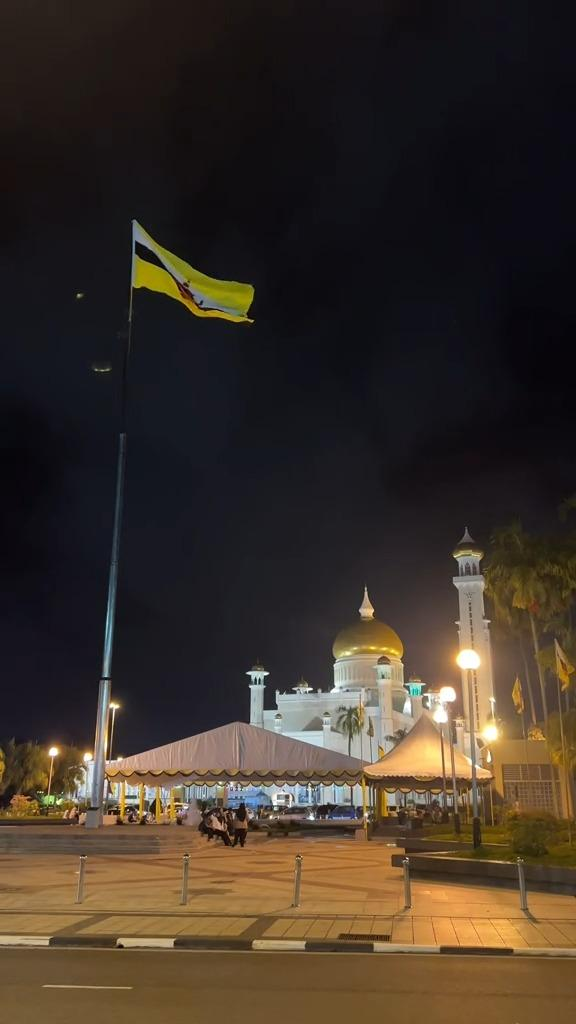Brunei: (131, 223, 255, 328)
